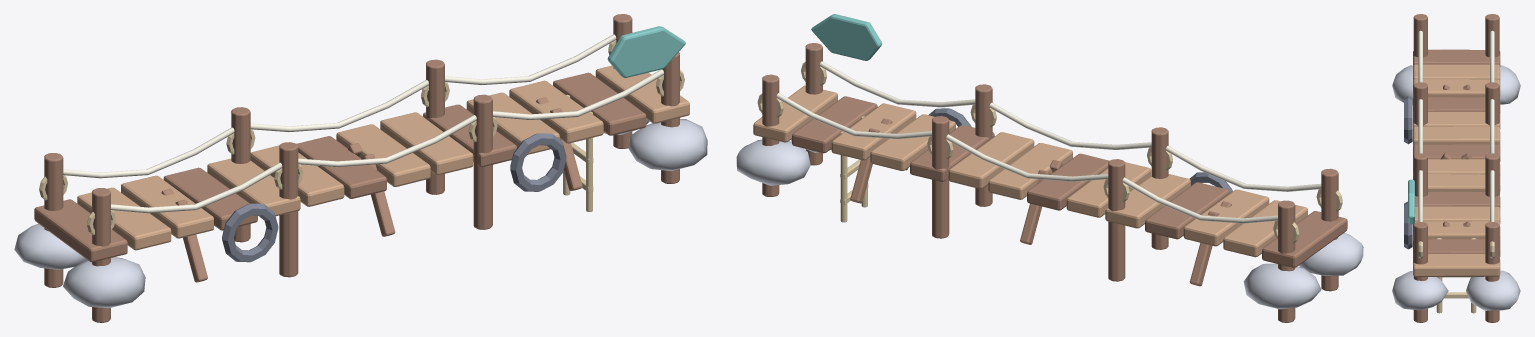
Rendered from northern_fjord_dock.glb.
The picture shows the model from 3 angles, left to right: view 1: azimuth 30°, elevation 25°; view 2: azimuth 150°, elevation 25°; view 3: azimuth 270°, elevation 25°; orthographic projection. The views are drawn at different scales.
Parts seen in each view (by area): view 1: northern_fjord_dock.001; view 2: northern_fjord_dock.001; view 3: northern_fjord_dock.001.
Boxes of the visible parts, <box> form: northern_fjord_dock.001: <box>14,14,707,322</box>; northern_fjord_dock.001: <box>736,14,1363,322</box>; northern_fjord_dock.001: <box>1392,14,1520,322</box>.
Bounding box in the file's own units: 17.64 × 4.9 × 4.13.
